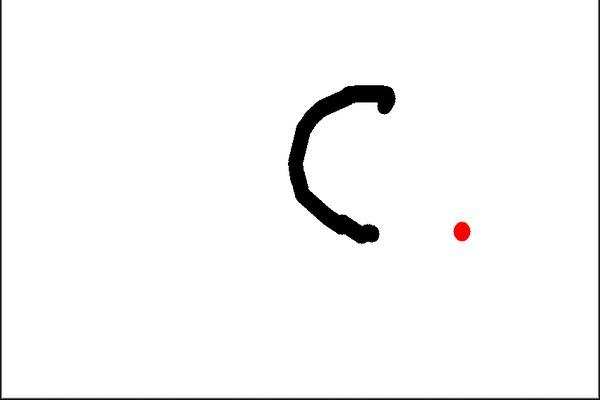C: (284, 81, 401, 245)
